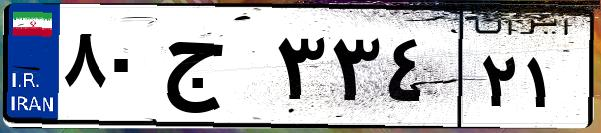0: (110, 28, 158, 98)
1: (525, 38, 570, 115)
2: (475, 38, 525, 113)
3: (270, 28, 330, 110), (330, 28, 385, 110)
4: (385, 28, 445, 110)
8: (57, 26, 110, 100)
ج: (158, 20, 270, 120)
